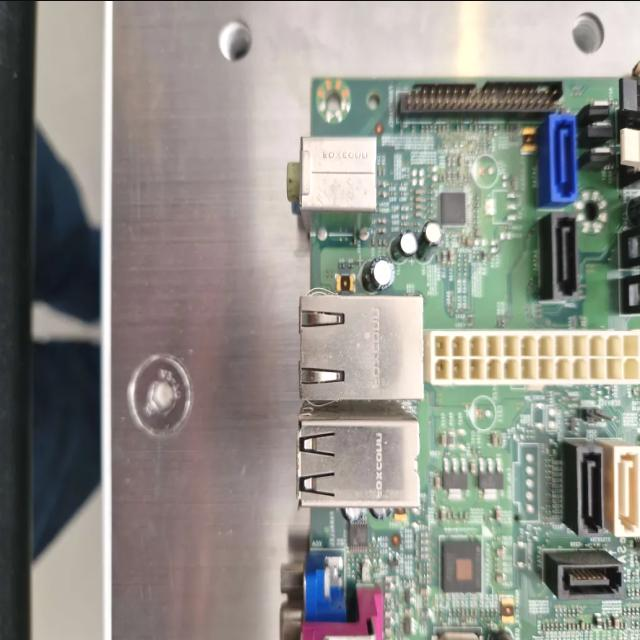C: (360, 256, 392, 290), (418, 222, 442, 261), (392, 230, 416, 262), (628, 187, 640, 220)
F: (300, 294, 424, 400), (299, 402, 421, 504), (288, 136, 380, 226)
